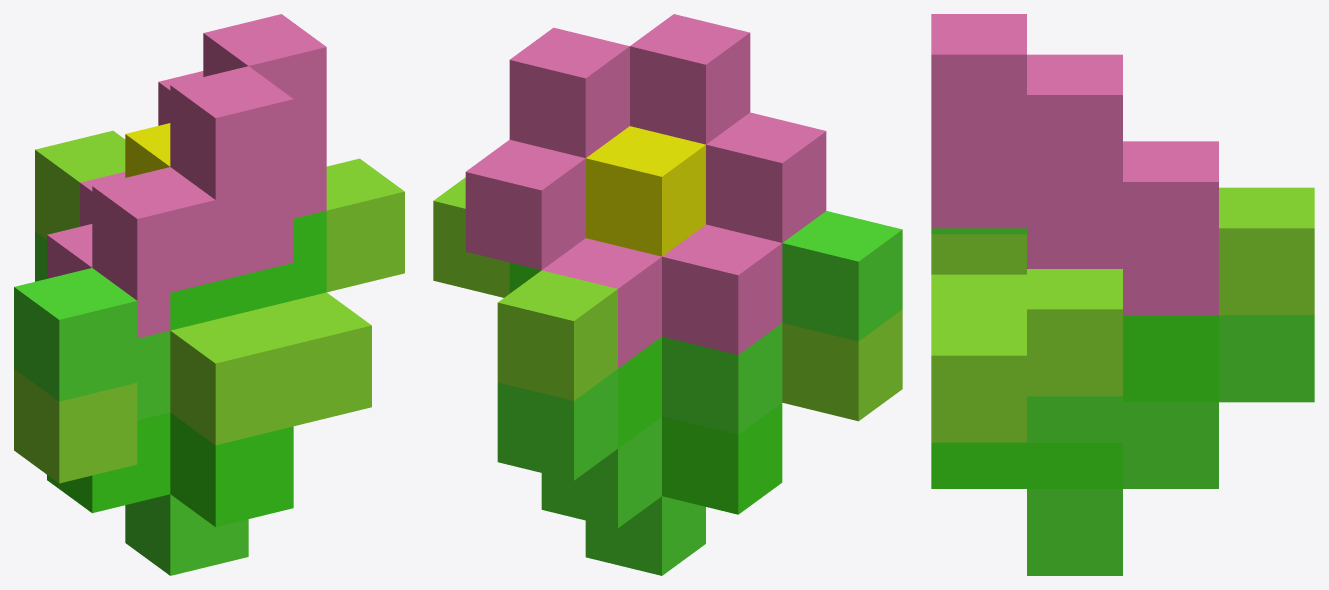
File: tile-50.obj
3 views of the same model, side by side, from view 1: azimuth 30°, elevation 25°; view 2: azimuth 150°, elevation 25°; view 3: azimuth 270°, elevation 25° (orthographic). The views are drawn at different scales.
Size of the model in its own units: 0.5 by 0.6 by 0.4.
1 material, 1 textured.
